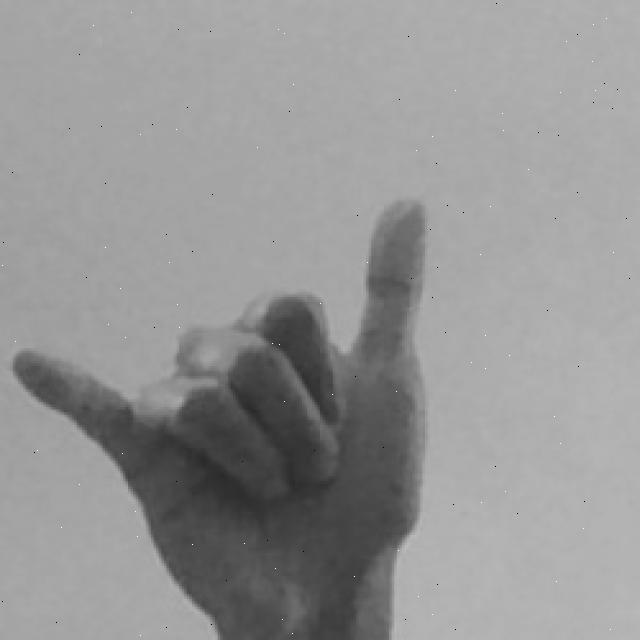Y: (5, 188, 437, 640)
